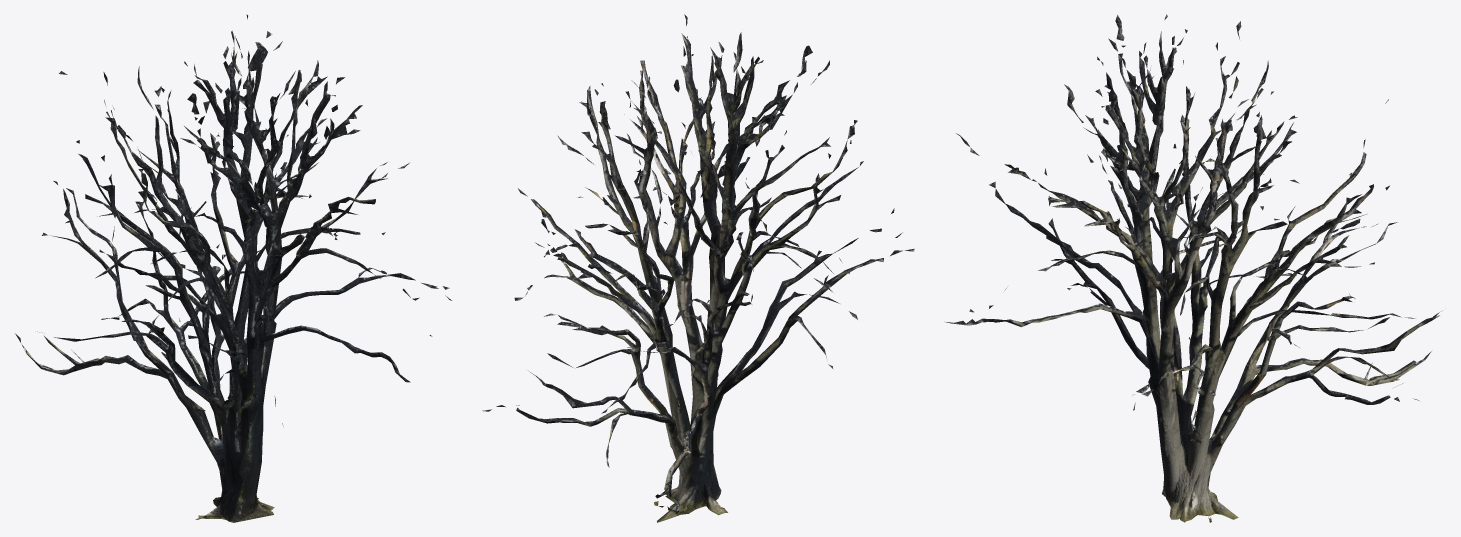
Rendered from tree_snag_tall.glb.
The picture shows the model from 3 angles, left to right: view 1: azimuth 30°, elevation 25°; view 2: azimuth 150°, elevation 25°; view 3: azimuth 270°, elevation 25°; orthographic projection. The views are drawn at different scales.
Visible parts, largest first — view 1: tree_snag_tall; view 2: tree_snag_tall; view 3: tree_snag_tall.
Part boxes in pixels (box(x1,y1,x2,y2)): tree_snag_tall: box(15, 14, 451, 522); tree_snag_tall: box(482, 14, 914, 522); tree_snag_tall: box(944, 14, 1441, 522).
Size of the model in its own units: 2.22 by 2.79 by 2.72.
1 material, 1 textured.
